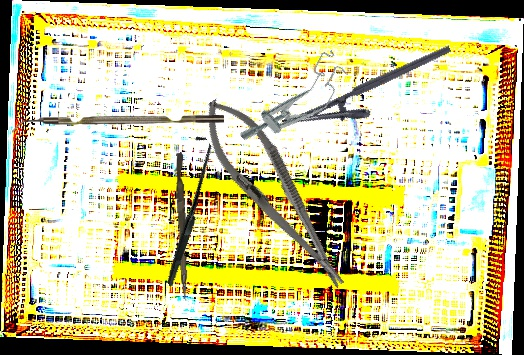Chopper: (12, 115, 224, 133)
Hook Surgical: (108, 132, 265, 288)
Needle Holder: (187, 86, 363, 302), (280, 44, 463, 151)
Pusher: (172, 152, 193, 302)
Speculum: (233, 46, 358, 162)
